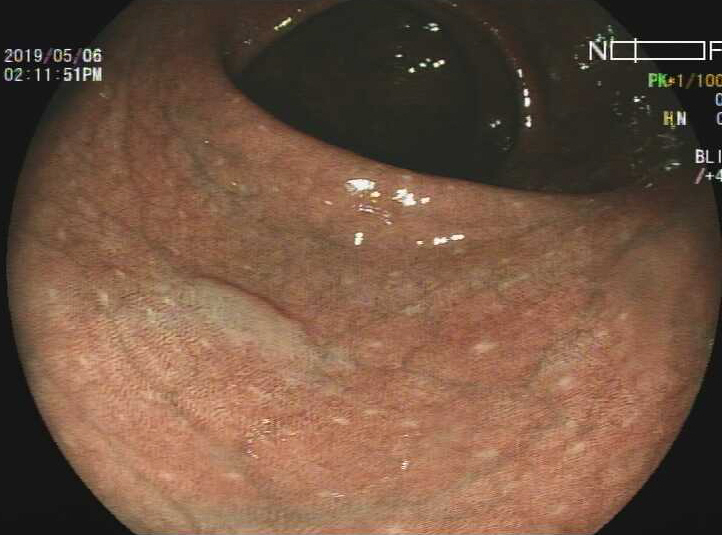others: (187, 272, 321, 370)
